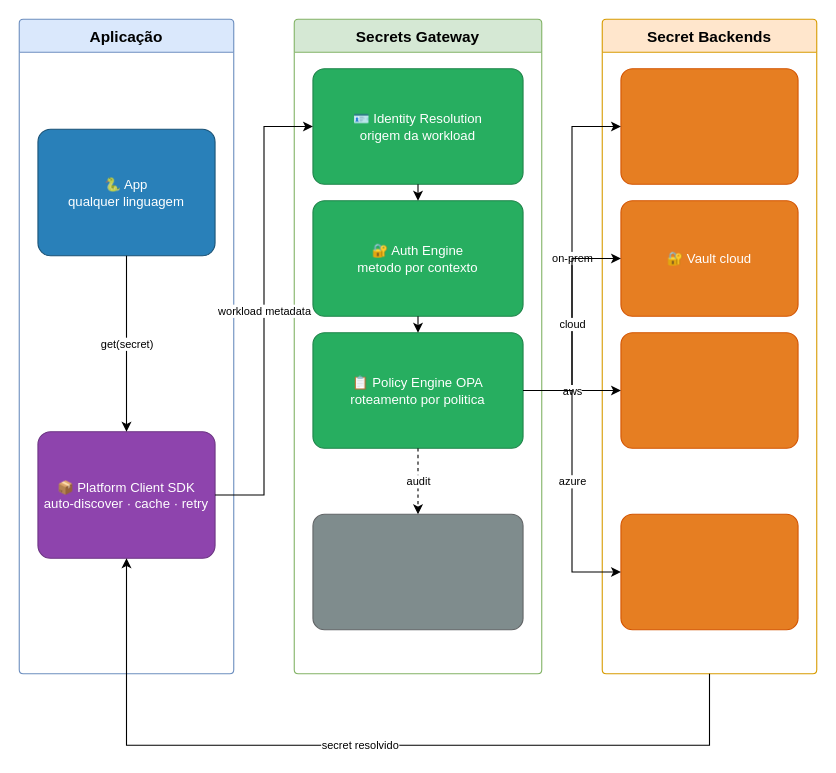
Image size: 836x773. Some labels were removed from this diagram. The shapes that lost their labels are listed below. From the top down, each one's centre as x and y in pixels, then its label:
pixel 709 126: 🔐 Vault on-prem
pixel 709 390: ☁️ AWS Secrets Manager
pixel 417 571: 📝 Audit Log centralizado
pixel 709 571: 🔷 Azure Key Vault
